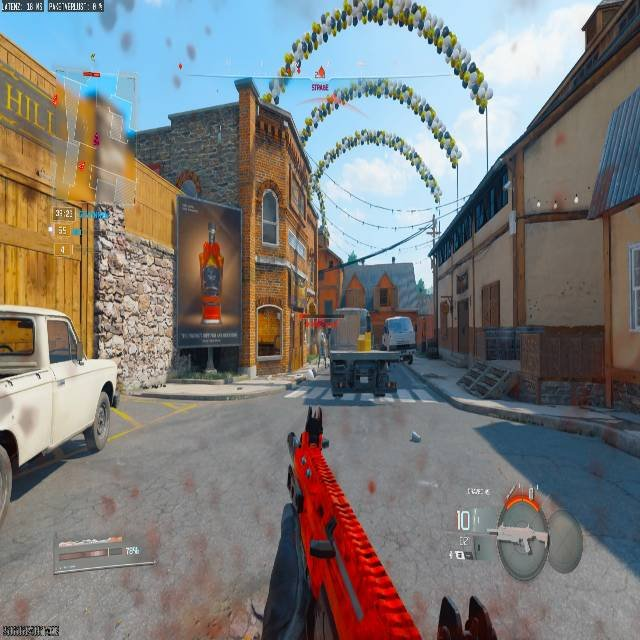player: (318, 326, 336, 358)
